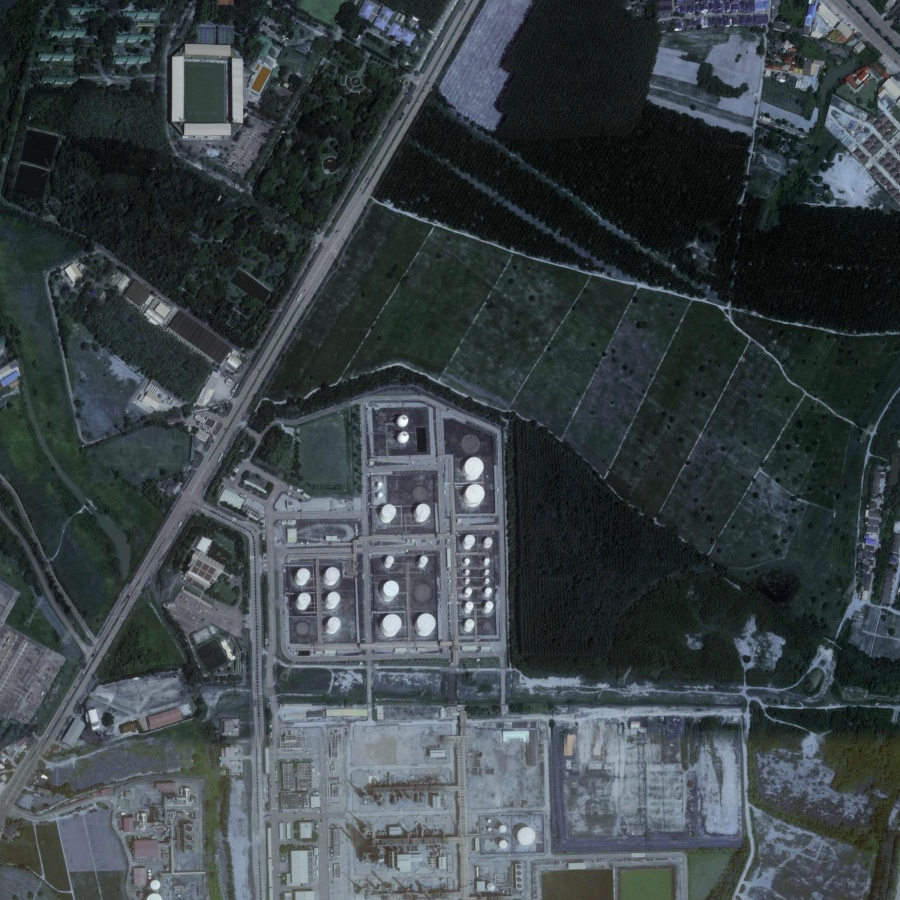PowerPlant: (231, 392, 509, 675)
